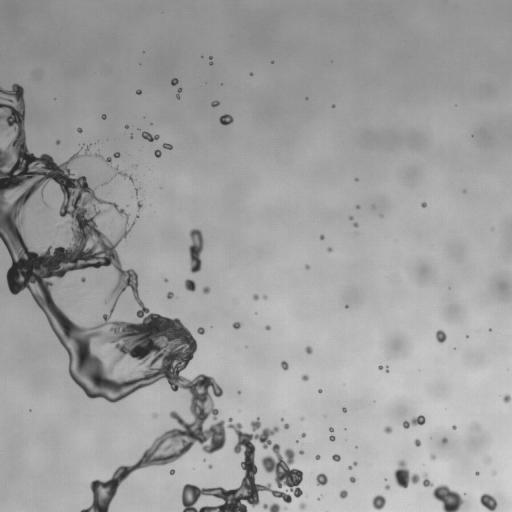droplet: (393, 460, 419, 488), (480, 493, 497, 511), (372, 495, 385, 510), (219, 114, 233, 125), (435, 330, 446, 343), (184, 279, 195, 291), (316, 473, 327, 485), (502, 394, 511, 403), (339, 490, 347, 498), (232, 322, 241, 329), (281, 361, 288, 370), (202, 286, 210, 293), (305, 346, 312, 354), (384, 426, 392, 433), (332, 454, 340, 461), (163, 143, 172, 149), (171, 78, 178, 85), (154, 150, 161, 157), (197, 327, 204, 334), (301, 374, 308, 381), (414, 439, 421, 446), (211, 100, 219, 106), (166, 292, 174, 298), (137, 201, 142, 209), (329, 435, 335, 441), (484, 457, 490, 463), (349, 476, 355, 482), (299, 503, 305, 509), (430, 453, 435, 460), (114, 152, 120, 157), (253, 294, 258, 300), (442, 437, 447, 443), (421, 202, 426, 207), (353, 222, 358, 227), (265, 325, 270, 330), (284, 424, 289, 429), (136, 90, 141, 94), (102, 114, 106, 119), (77, 128, 82, 132), (305, 264, 309, 269), (81, 277, 85, 282), (342, 407, 346, 412), (170, 469, 174, 474), (349, 216, 353, 220), (320, 235, 324, 239), (327, 247, 331, 251), (318, 389, 322, 393), (152, 413, 156, 417), (452, 425, 456, 429), (329, 427, 333, 431), (301, 433, 305, 437), (299, 450, 303, 454), (315, 455, 319, 459), (353, 461, 357, 465), (208, 464, 212, 468), (475, 471, 479, 475), (385, 485, 389, 489), (209, 61, 212, 65), (56, 140, 59, 144), (263, 295, 266, 299), (348, 466, 352, 469), (125, 125, 128, 128), (135, 188, 138, 191), (356, 205, 359, 208), (164, 279, 167, 282), (130, 135, 132, 138), (136, 215, 138, 218), (345, 305, 348, 307), (471, 424, 474, 426), (250, 73, 252, 75), (332, 105, 334, 107), (103, 182, 105, 184), (238, 391, 240, 393), (281, 418, 283, 420), (301, 418, 303, 420)
ligament: (0, 87, 300, 511), (422, 473, 463, 511), (188, 229, 203, 273), (113, 166, 133, 181), (402, 415, 425, 428), (94, 152, 111, 165), (142, 131, 159, 141), (263, 503, 280, 511), (378, 365, 388, 372), (176, 89, 181, 98), (43, 201, 47, 205)
